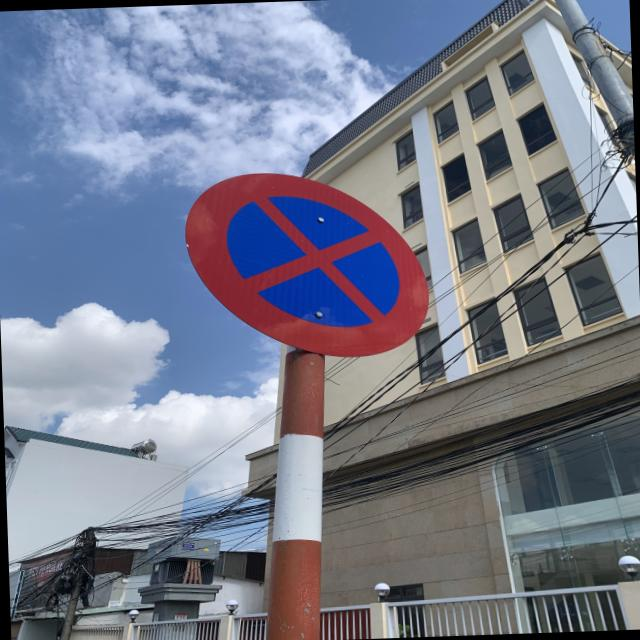Cam_Dung_Va_Dau_Xe: (181, 166, 431, 364)
